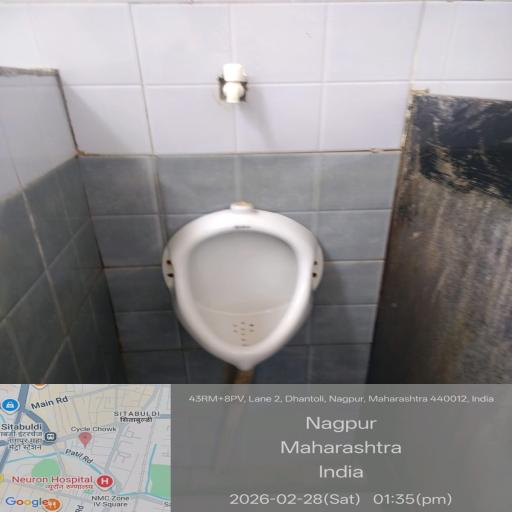clean_floor: (36, 0, 498, 185)
clean_urinal: (140, 192, 342, 406)
